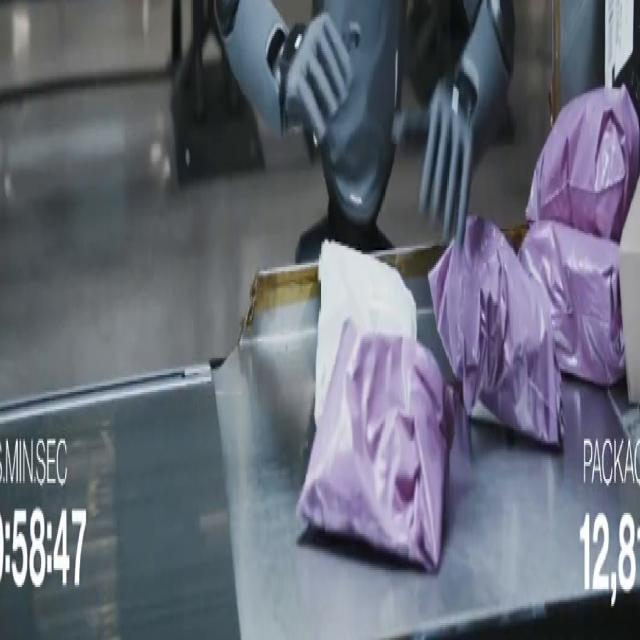package: (297, 320, 463, 572), (430, 217, 563, 447), (315, 242, 416, 423), (519, 221, 625, 385), (527, 87, 639, 241), (536, 0, 604, 125), (620, 187, 639, 402), (605, 0, 639, 116)
